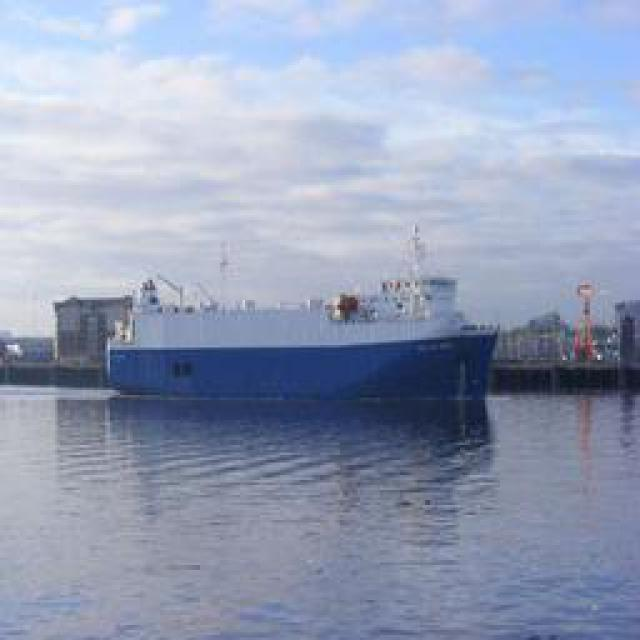Ship: (107, 251, 495, 411)
